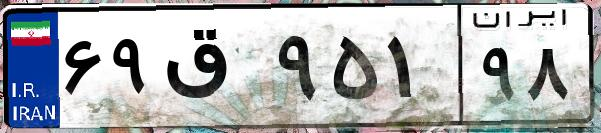1: (385, 28, 445, 110)
5: (330, 28, 385, 110)
6: (57, 26, 110, 100)
8: (525, 38, 570, 115)
9: (270, 28, 330, 110), (475, 38, 525, 113), (110, 28, 158, 98)
ق: (158, 20, 270, 120)
